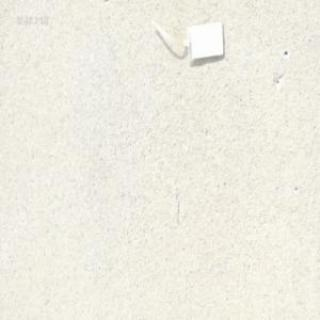LuggageTagtrack_idkeyframe: (147, 13, 225, 64)
